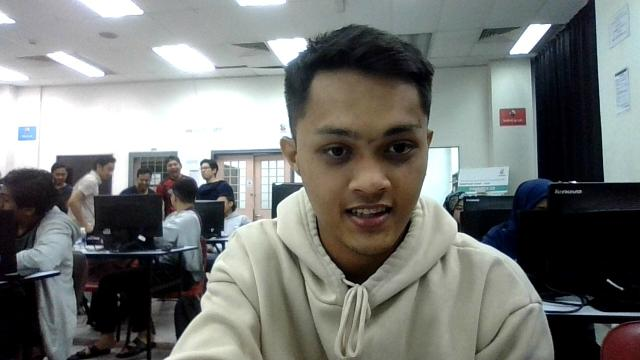senang: (291, 74, 424, 252)
